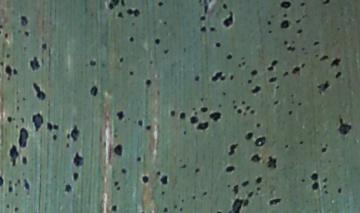tarspot: (29, 81, 48, 104), (221, 9, 240, 30), (336, 115, 352, 138), (229, 195, 249, 213), (30, 111, 46, 133), (26, 54, 44, 73), (69, 119, 80, 147), (7, 141, 19, 165), (315, 79, 331, 95), (18, 127, 29, 150), (125, 5, 144, 18), (277, 18, 292, 34), (211, 69, 226, 85), (225, 140, 239, 157), (209, 108, 222, 125), (1, 62, 13, 80), (71, 152, 86, 166), (265, 155, 278, 170), (111, 143, 125, 156), (17, 13, 30, 27), (308, 180, 322, 193), (254, 134, 267, 148), (222, 162, 237, 174), (194, 121, 212, 131), (267, 58, 279, 73), (266, 75, 282, 86), (248, 66, 261, 79), (250, 83, 262, 97), (266, 196, 284, 205), (21, 177, 31, 193), (139, 173, 151, 186), (157, 175, 170, 187), (213, 38, 225, 51), (289, 64, 301, 77), (108, 202, 122, 213), (253, 173, 264, 187), (115, 109, 127, 121), (118, 165, 130, 177), (223, 51, 235, 63), (197, 13, 209, 25), (276, 1, 294, 9), (152, 1, 168, 10), (308, 170, 321, 181), (330, 56, 341, 69), (284, 44, 297, 55), (115, 9, 125, 23), (143, 77, 154, 89), (39, 40, 50, 52), (177, 110, 189, 121), (198, 23, 209, 35), (240, 179, 252, 190), (71, 170, 81, 183), (251, 152, 261, 165), (125, 66, 134, 80), (88, 85, 99, 96), (319, 144, 330, 155), (21, 29, 33, 39), (244, 129, 254, 141), (19, 155, 29, 166), (127, 33, 137, 44), (320, 52, 330, 63), (133, 154, 145, 163), (231, 183, 240, 195), (146, 120, 154, 133), (64, 181, 72, 194), (192, 72, 200, 85), (209, 23, 217, 36), (159, 205, 172, 213), (190, 115, 200, 125), (311, 38, 321, 48), (333, 70, 343, 80), (152, 36, 161, 47), (50, 132, 59, 143), (199, 103, 208, 114), (296, 27, 305, 38), (264, 17, 273, 28), (118, 52, 125, 66), (136, 117, 144, 129), (1, 173, 7, 189), (228, 71, 235, 84), (5, 114, 14, 124), (168, 108, 176, 119), (253, 122, 264, 130), (160, 47, 171, 55), (234, 107, 243, 116), (193, 167, 201, 177), (336, 187, 344, 196), (112, 179, 121, 187), (286, 108, 294, 117), (249, 108, 256, 117)
